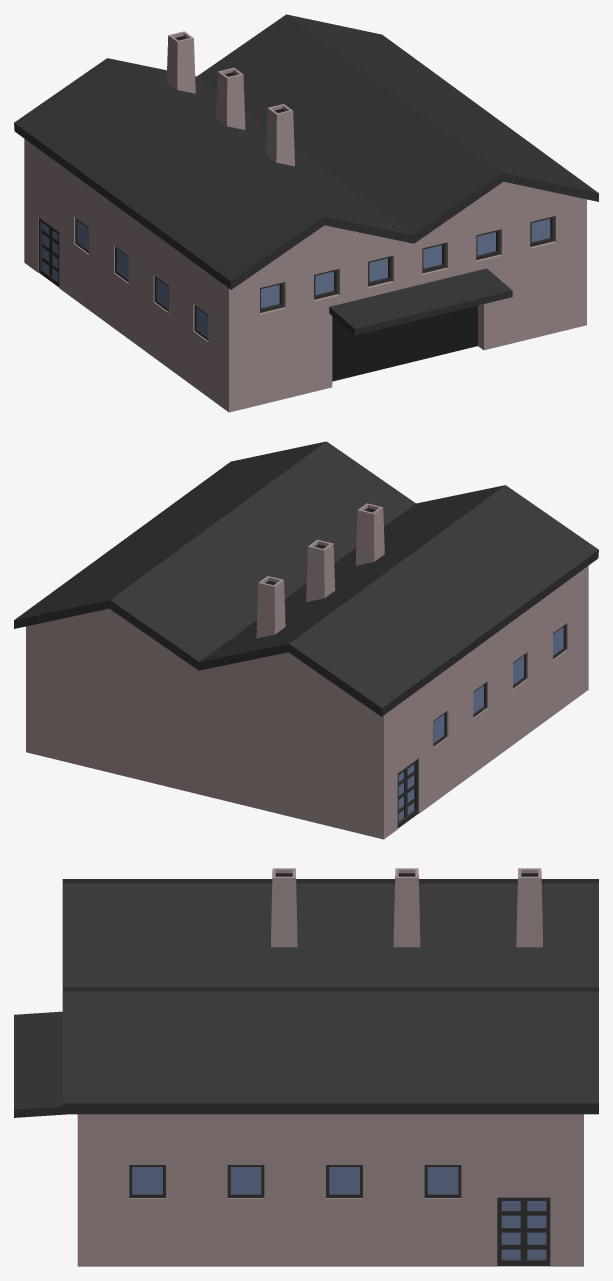
File: FactoryBuilding_06.fbx
3 views of the same model, one above another, from view 1: azimuth 30°, elevation 25°; view 2: azimuth 150°, elevation 25°; view 3: azimuth 270°, elevation 25° (orthographic). The views are drawn at different scales.
Visible parts, largest first — view 1: FactoryBuilding_06; view 2: FactoryBuilding_06; view 3: FactoryBuilding_06.
Boxes of the visible parts, x1,y1,x2,y2 form: FactoryBuilding_06: (14,14,598,412); FactoryBuilding_06: (14,441,598,839); FactoryBuilding_06: (14,868,598,1266).
Bounding box in the file's own units: 17.84 × 9.69 × 19.84.
